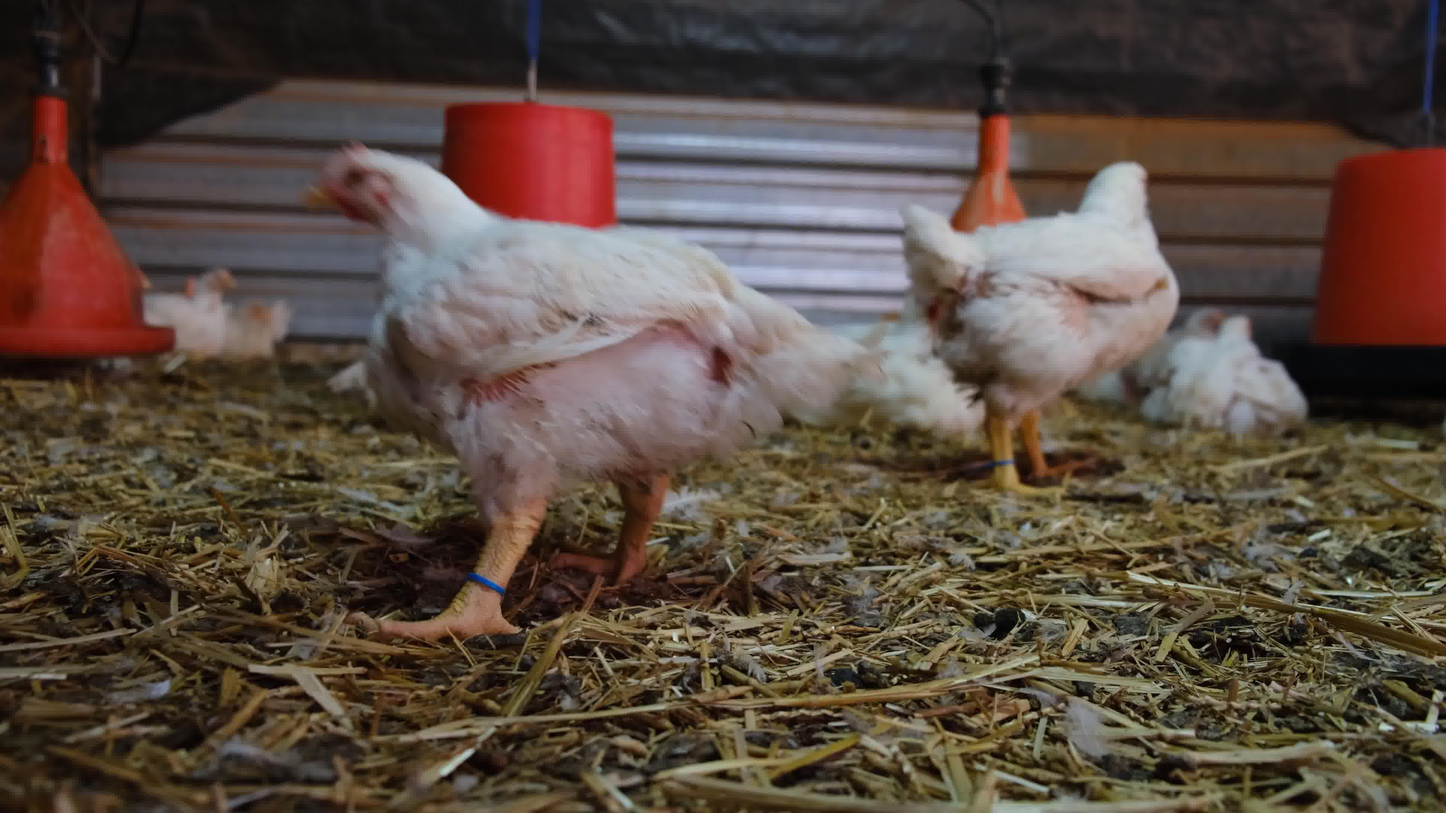AbNormal: (830, 311, 977, 457), (1190, 311, 1307, 437), (1169, 288, 1246, 416), (232, 301, 320, 386)
Normal: (286, 141, 811, 661), (891, 156, 1194, 514), (143, 275, 243, 376)
